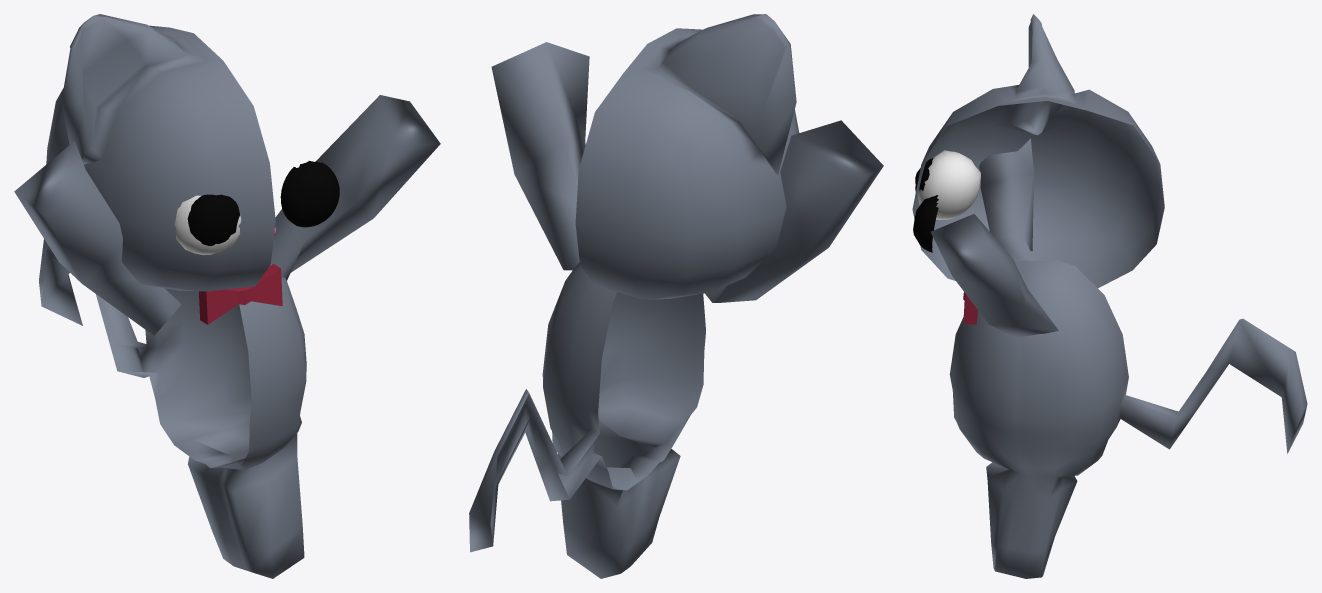
The model's file is cat6.glb.
3 views of the same model, side by side, from view 1: azimuth 30°, elevation 25°; view 2: azimuth 150°, elevation 25°; view 3: azimuth 270°, elevation 25° (orthographic). The views are drawn at different scales.
Visible parts, largest first — view 1: 머리, 몸, Cube.001, Cube.002, Sphere.002, Cube, Sphere.001, 눈; view 2: 머리, 몸, Cube.001, Cube.002; view 3: 몸, 머리, Cube.001, Cube.002, 눈, Sphere.002.
Part boxes in pixels (x1,y1,x2,y2): 머리: (46,14,275,291); 몸: (39,239,306,578); Cube.001: (271,95,440,280); Cube.002: (14,141,181,335); Sphere.002: (280,161,339,227); Cube: (199,263,282,324); Sphere.001: (187,194,239,245); 눈: (174,195,241,255); 머리: (575,14,799,299); 몸: (469,263,705,578); Cube.001: (491,42,589,270); Cube.002: (705,120,883,302); 몸: (949,260,1307,578); 머리: (912,14,1164,288); Cube.001: (931,214,1058,337); Cube.002: (979,138,1034,262); 눈: (918,150,980,219); Sphere.002: (913,195,938,252).
Bounding box in the file's own units: 2.44 × 3.59 × 2.58.
